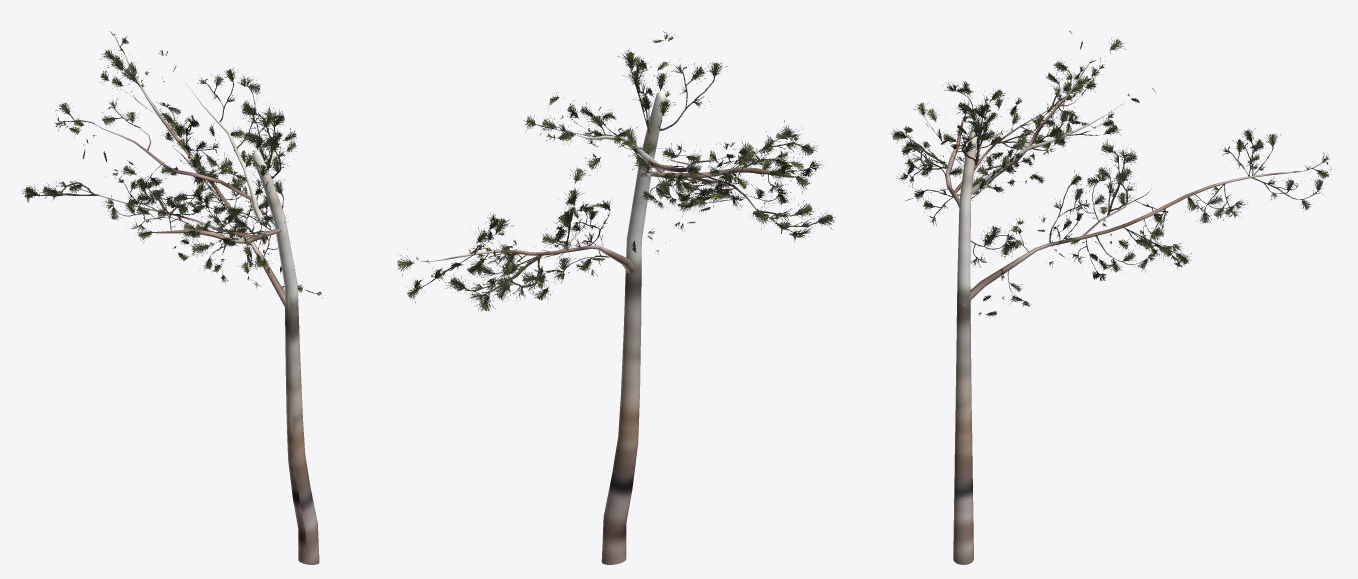
The model's file is Tree.fbx.
3 views of the same model, side by side, from view 1: azimuth 30°, elevation 25°; view 2: azimuth 150°, elevation 25°; view 3: azimuth 270°, elevation 25° (orthographic). The views are drawn at different scales.
Parts seen in each view (by area): view 1: Circle.002; view 2: Circle.002; view 3: Circle.002.
Part boxes in pixels (x1,y1,x2,y2): Circle.002: (21,31,322,564); Circle.002: (396,31,835,564); Circle.002: (891,31,1331,564).
Size of the model in its own units: 1314 by 2036 by 1836.
